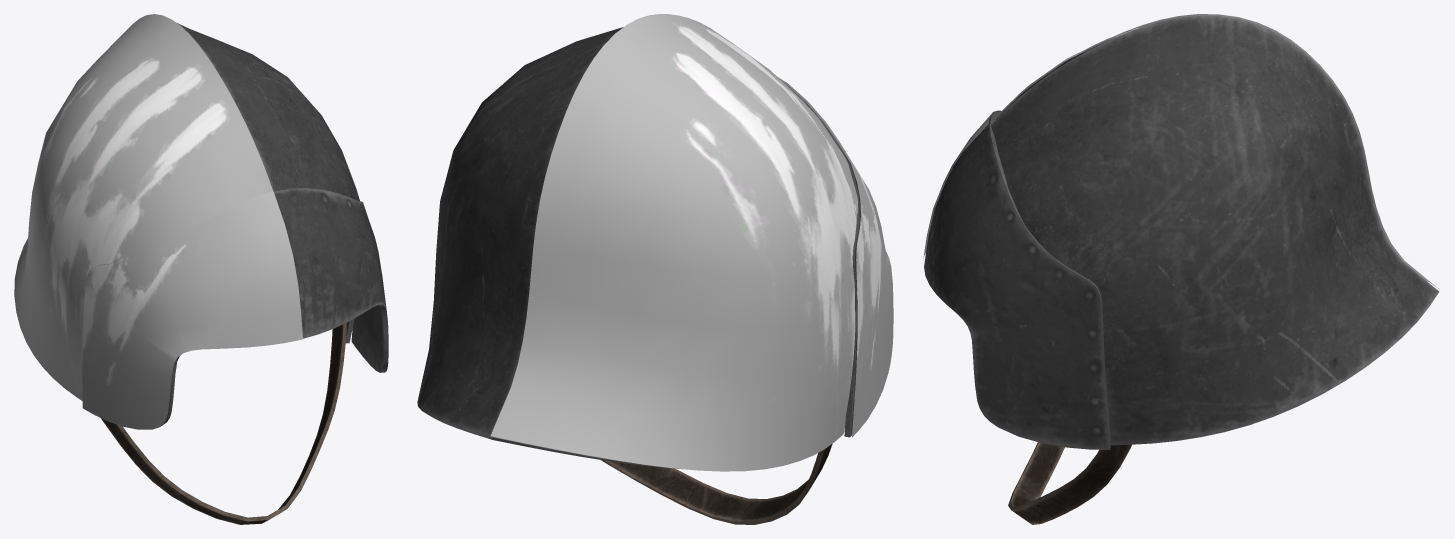
Rendered from sk_uruk_hai_helmet_skir_a2.fbx.
3 renders of one model, left to right at view 1: azimuth 30°, elevation 25°; view 2: azimuth 150°, elevation 25°; view 3: azimuth 270°, elevation 25°, orthographic. The views are drawn at different scales.
Visible parts, largest first — view 1: sk_uruk_hai_helmet_skir_a2.0, sk_uruk_hai_helmet_skir_a2.2, sk_uruk_hai_helmet_skir_a2.1; view 2: sk_uruk_hai_helmet_skir_a2.0, sk_uruk_hai_helmet_skir_a2.2, sk_uruk_hai_helmet_skir_a2.1; view 3: sk_uruk_hai_helmet_skir_a2.2, sk_uruk_hai_helmet_skir_a2.1, sk_uruk_hai_helmet_skir_a2.0.
Boxes of the visible parts, bbox=[...] form: sk_uruk_hai_helmet_skir_a2.0: bbox=[14, 14, 302, 429]; sk_uruk_hai_helmet_skir_a2.2: bbox=[99, 23, 388, 426]; sk_uruk_hai_helmet_skir_a2.1: bbox=[101, 323, 346, 524]; sk_uruk_hai_helmet_skir_a2.0: bbox=[490, 14, 893, 471]; sk_uruk_hai_helmet_skir_a2.2: bbox=[417, 27, 860, 469]; sk_uruk_hai_helmet_skir_a2.1: bbox=[601, 444, 832, 524]; sk_uruk_hai_helmet_skir_a2.2: bbox=[924, 16, 1439, 450]; sk_uruk_hai_helmet_skir_a2.1: bbox=[1008, 442, 1131, 524]; sk_uruk_hai_helmet_skir_a2.0: bbox=[923, 14, 1439, 289].
Size of the model in its own units: 0.2083 by 0.2936 by 0.3137.
Materials: 3 (3 with a texture image).
